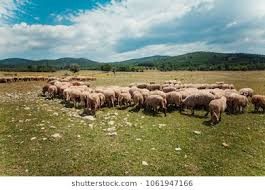sheep: (178, 93, 209, 117), (208, 95, 229, 120), (142, 94, 166, 115), (226, 90, 249, 111), (86, 92, 104, 112), (249, 92, 265, 113), (117, 89, 131, 107), (42, 83, 54, 99)
